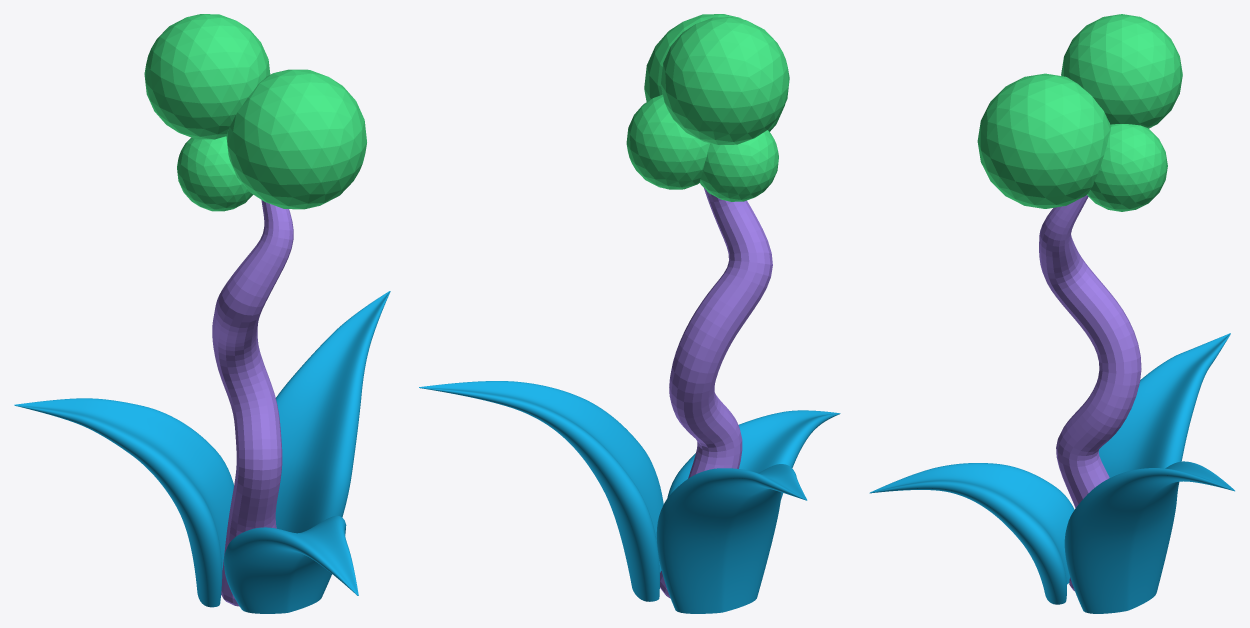
File: plantedit.fbx
The picture shows the model from 3 angles, left to right: view 1: azimuth 30°, elevation 25°; view 2: azimuth 150°, elevation 25°; view 3: azimuth 270°, elevation 25°; orthographic projection. The views are drawn at different scales.
Parts seen in each view (by area): view 1: Plane, NurbsPath.002, NurbsPath.001, NurbsPath.003; view 2: Plane, NurbsPath.001, NurbsPath.002, NurbsPath.003; view 3: Plane, NurbsPath.002, NurbsPath.003, NurbsPath.001.
Part boxes in pixels (x1,y1,x2,y2): Plane: (144,14,366,606); NurbsPath.002: (275,291,390,533); NurbsPath.001: (14,398,233,607); NurbsPath.003: (224,515,358,613); Plane: (626,14,789,598); NurbsPath.001: (656,464,807,613); NurbsPath.002: (419,381,663,601); NurbsPath.003: (667,410,840,500); Plane: (977,14,1182,591); NurbsPath.002: (1064,461,1234,613); NurbsPath.003: (869,463,1074,604); NurbsPath.001: (1098,333,1230,477).
Size of the model in its own units: 1334 by 1954 by 1165.
